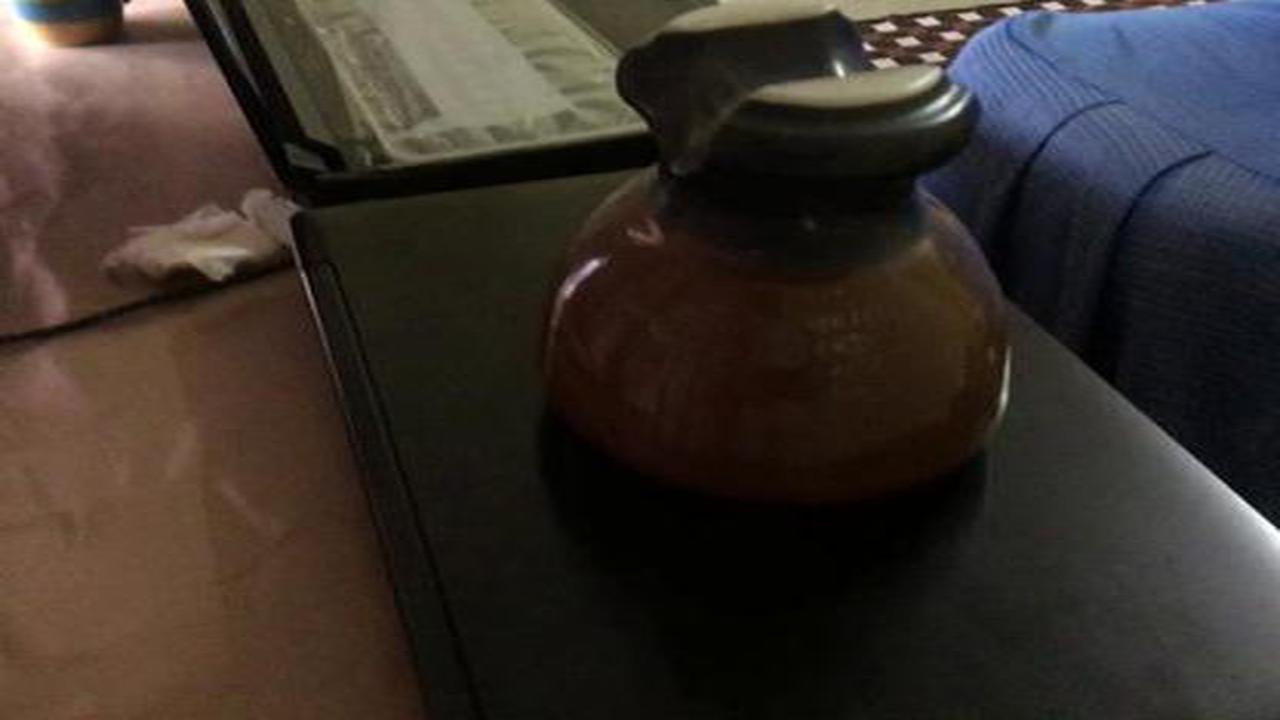insulator_pin: (527, 7, 1025, 515)
